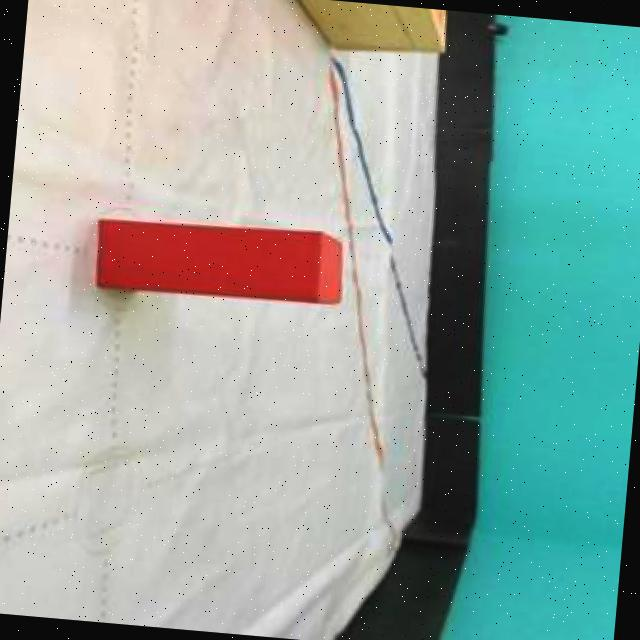redbox: (93, 214, 344, 307)
